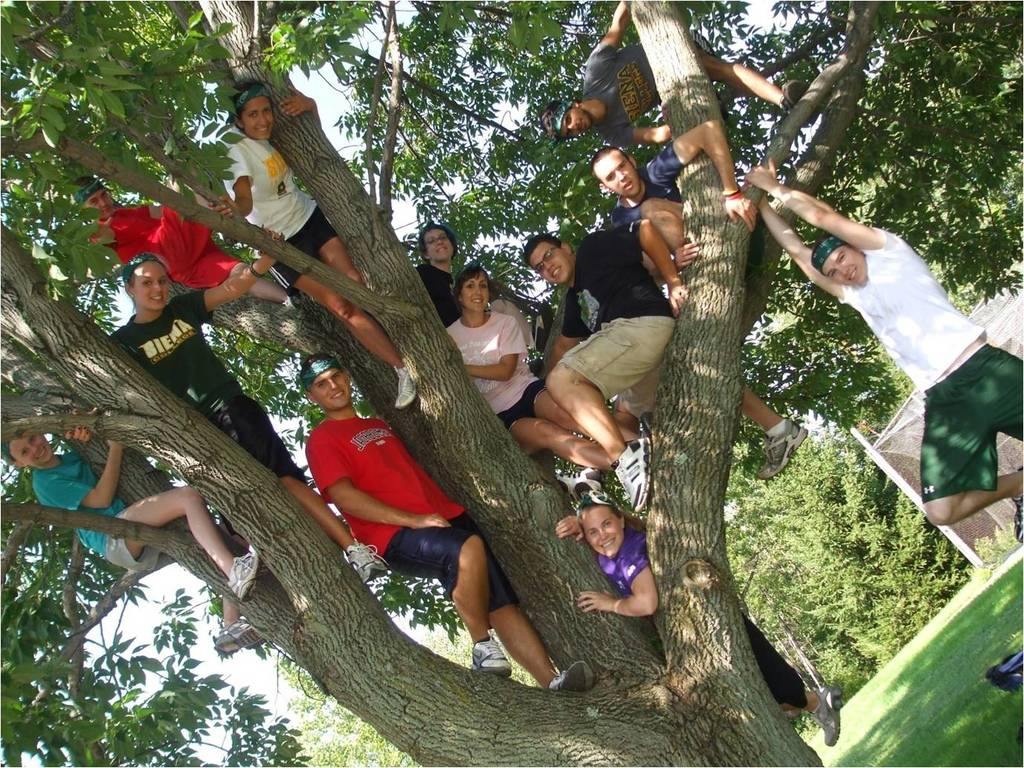Human_hand: (726, 190, 759, 233), (743, 154, 779, 190), (280, 85, 314, 117), (62, 407, 91, 444), (577, 589, 616, 616), (257, 227, 284, 265), (554, 514, 586, 542), (674, 241, 702, 273), (206, 193, 240, 219), (663, 283, 687, 317), (408, 512, 449, 531), (741, 181, 768, 207), (91, 219, 119, 244), (103, 436, 132, 450), (660, 103, 672, 132)
